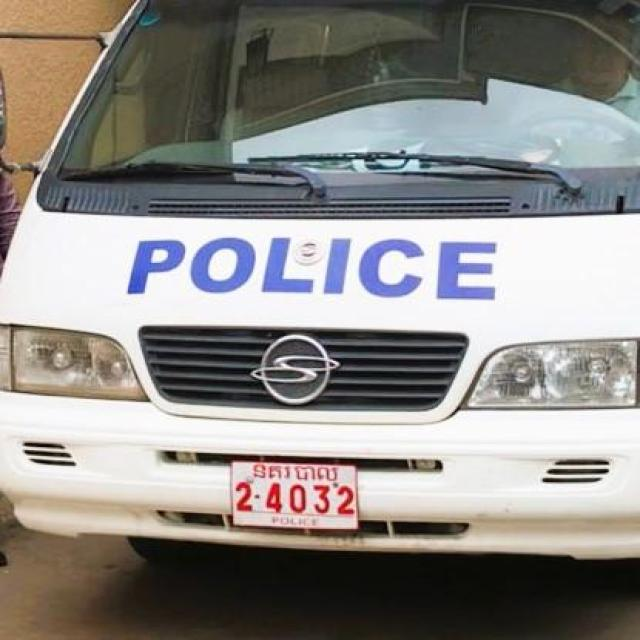Police: (253, 463, 339, 482)
